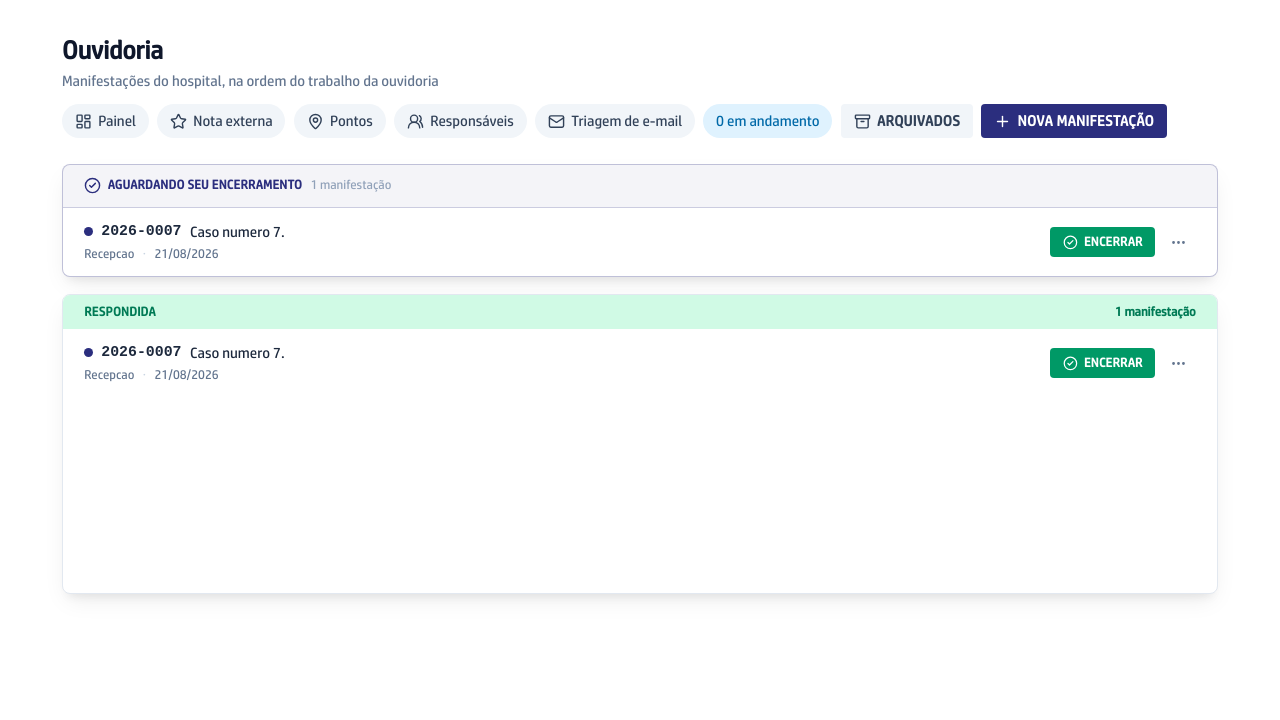
bloco aguardando seu encerramento (issue #486) › a recarga que falhou leva o bloco junto, e não deixa dado velho no topo
The width and height of the screenshot is (1280, 720).
Click the 1st button "Encerrar" at (1103, 242), box [1050,227,1155,257]
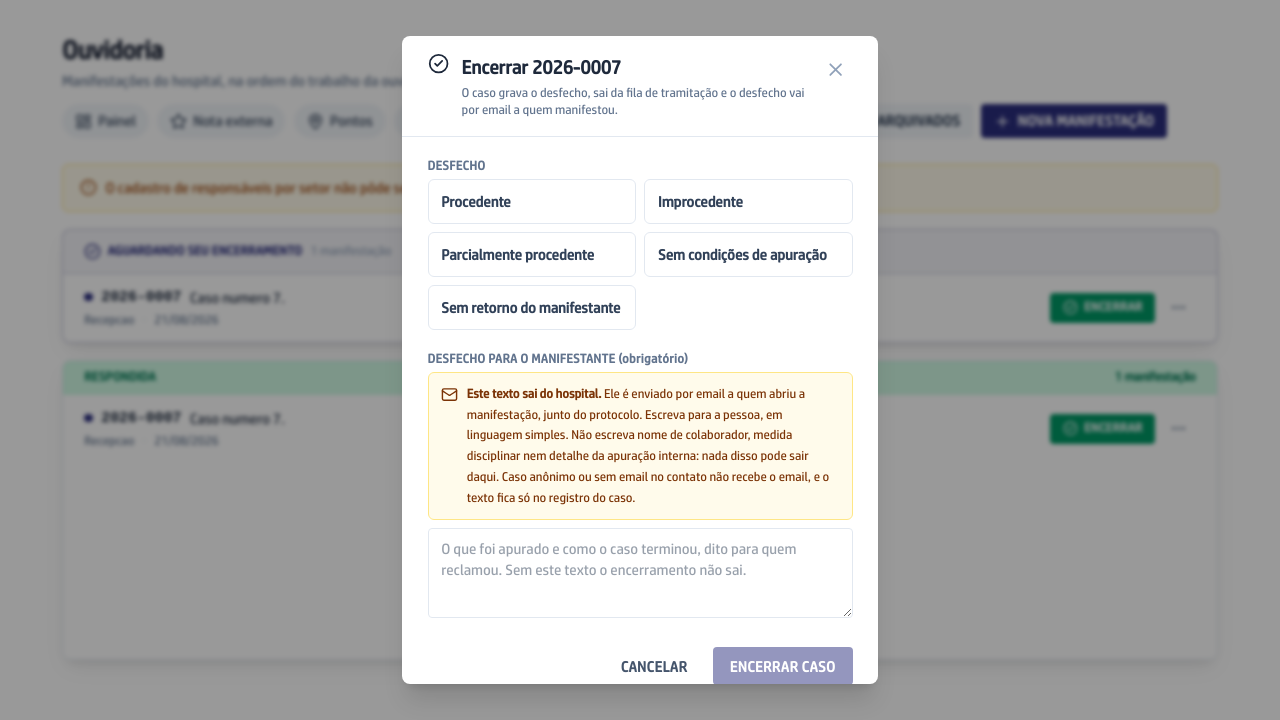
Click the button "Improcedente" at (748, 202), box [644,179,853,224]
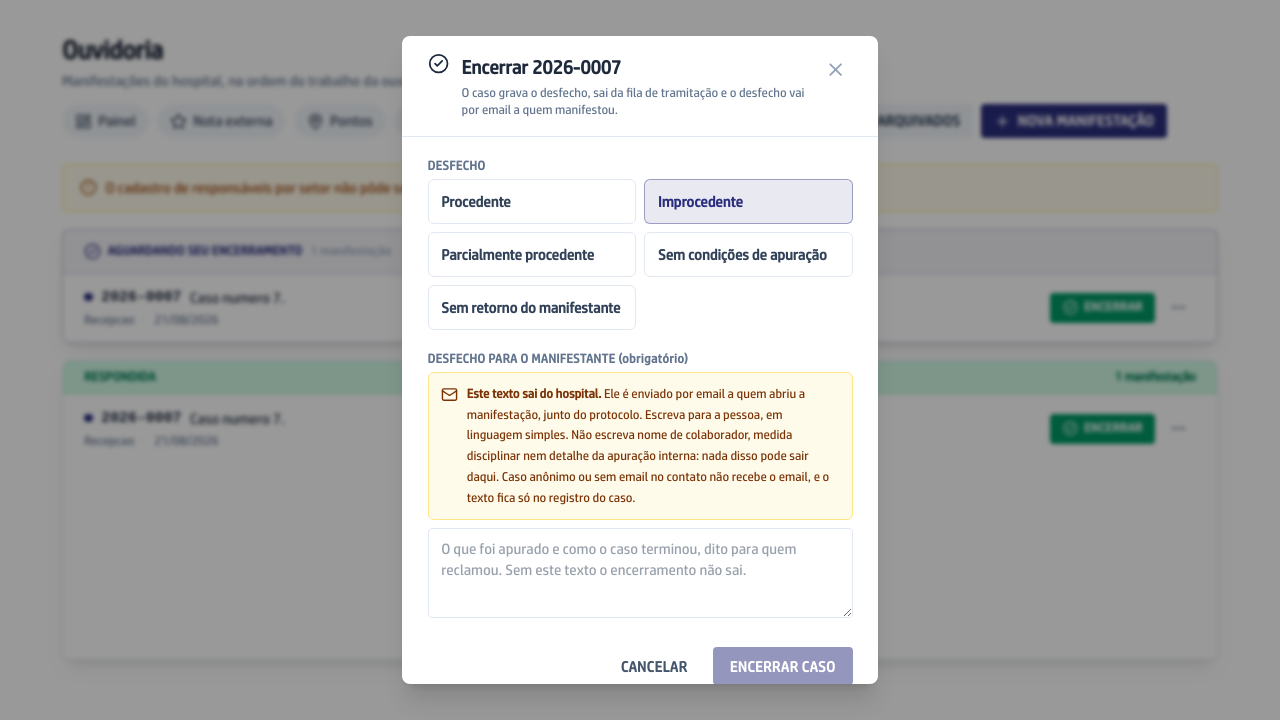
Replace the text in the text box labelled "Desfecho para o manifestante (obrigatório)" with "Apurado com a área e sem procedência." at (640, 573), box [428,528,852,618]
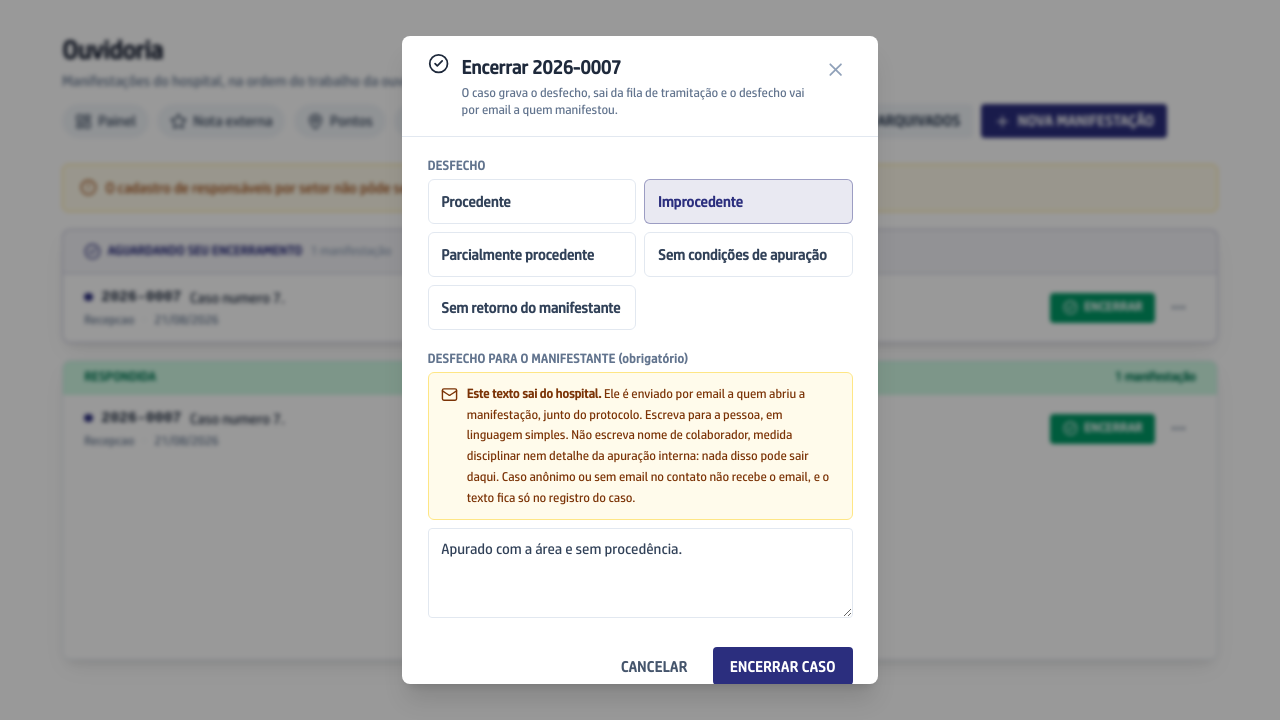
Click the button "Encerrar caso" at (783, 666), box [713,647,852,685]
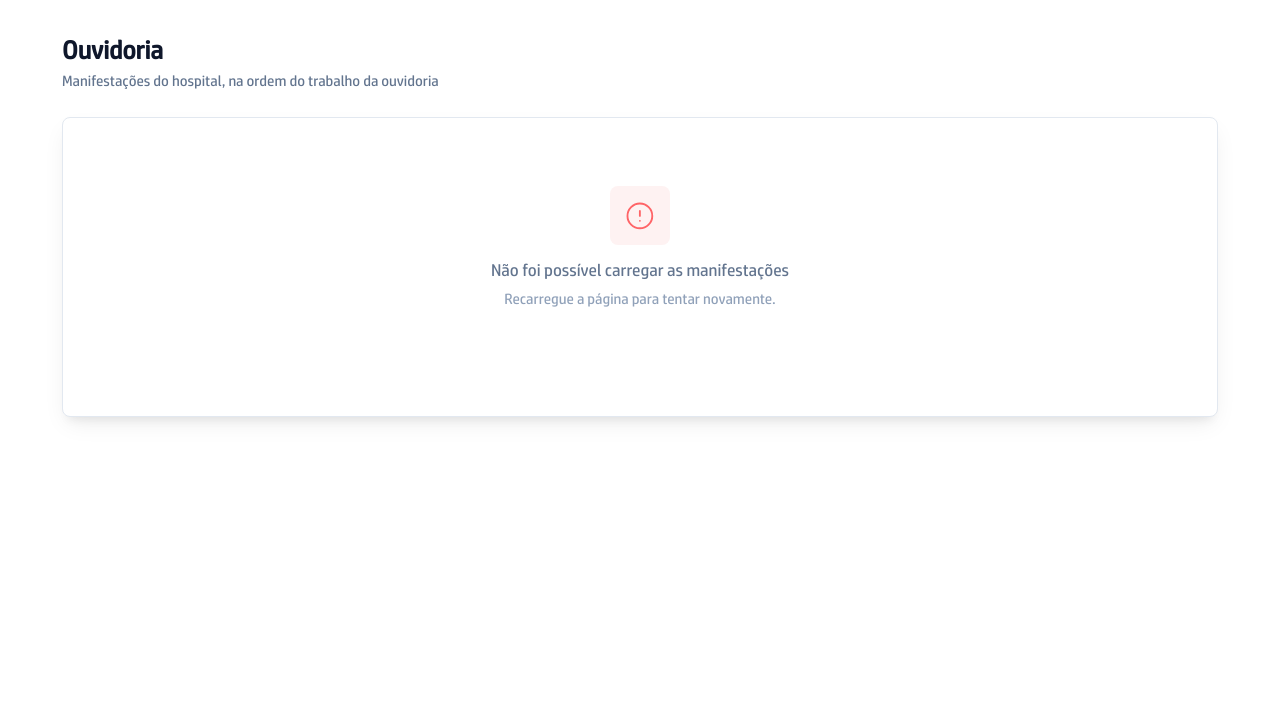
expect the text "Não foi possível carregar as manifestações" is shown: met, box [491,260,789,280]
expect the element "Aguardando seu encerramento" is gone: met
